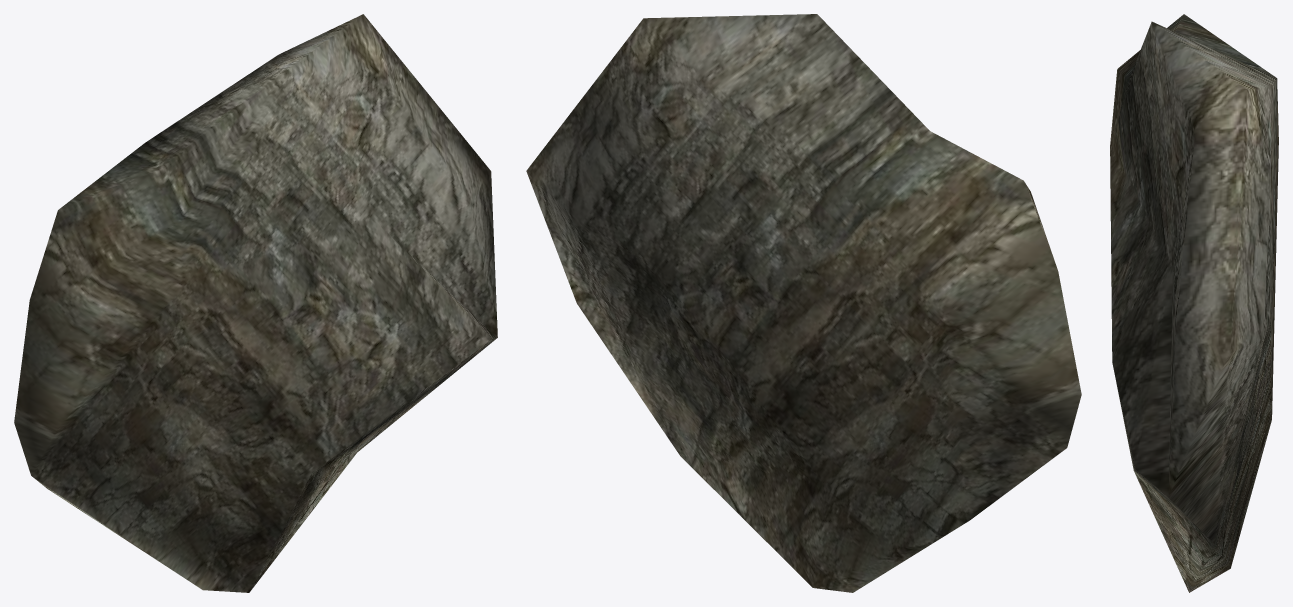
Rendered from hill400_rock_b.glb.
3 views of the same model, side by side, from view 1: azimuth 30°, elevation 25°; view 2: azimuth 150°, elevation 25°; view 3: azimuth 270°, elevation 25° (orthographic). The views are drawn at different scales.
Bounding box in the file's own units: 7.02 × 7.04 × 1.85.
1 material, 1 textured.
